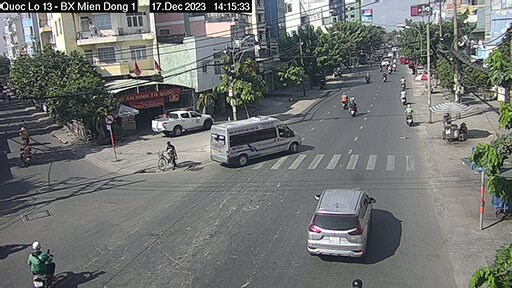car: (307, 186, 378, 256), (211, 120, 302, 163), (152, 108, 215, 137)
motorbike: (25, 243, 55, 286), (404, 105, 417, 127)
